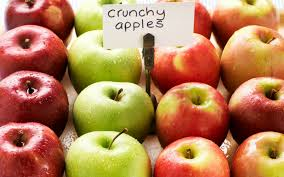apple: (72, 85, 156, 143), (160, 84, 229, 148), (70, 30, 146, 87), (151, 33, 223, 91), (3, 74, 71, 131), (66, 131, 148, 177), (3, 27, 68, 82), (222, 26, 282, 84), (1, 122, 61, 177), (232, 75, 284, 135), (153, 137, 231, 176), (2, 3, 75, 43), (71, 1, 143, 36), (149, 2, 216, 39), (212, 1, 282, 33), (234, 135, 284, 173)
